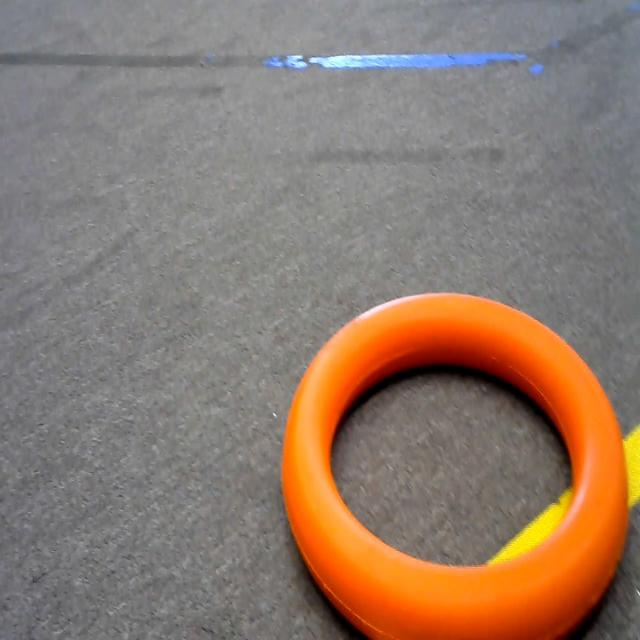note: (282, 277, 636, 640)
